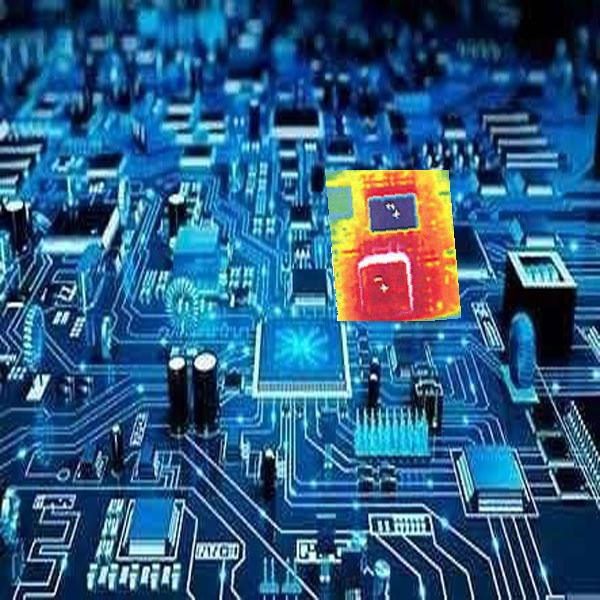componente_T: (320, 167, 465, 324)
